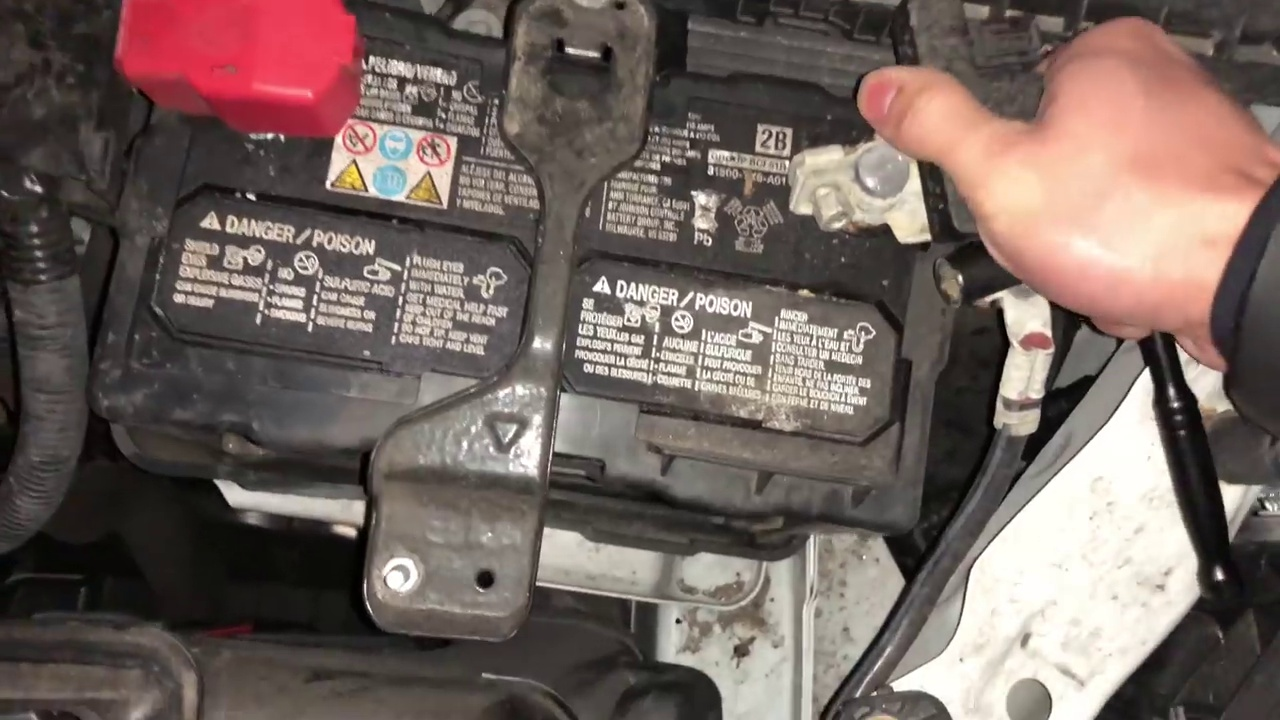battery: (97, 1, 946, 547)
neg_connected: (786, 103, 912, 247)
neg_touched: (761, 31, 1193, 300)
pos_connected: (78, 1, 373, 149)
